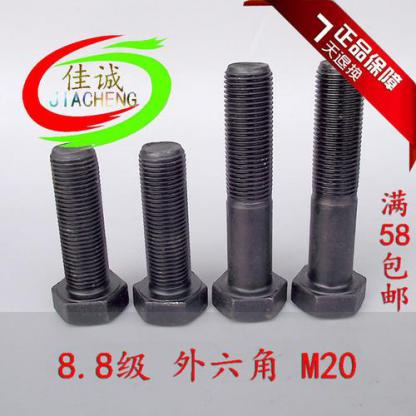FOD: (210, 58, 289, 325), (288, 56, 367, 322), (46, 139, 130, 329), (130, 135, 210, 330)
